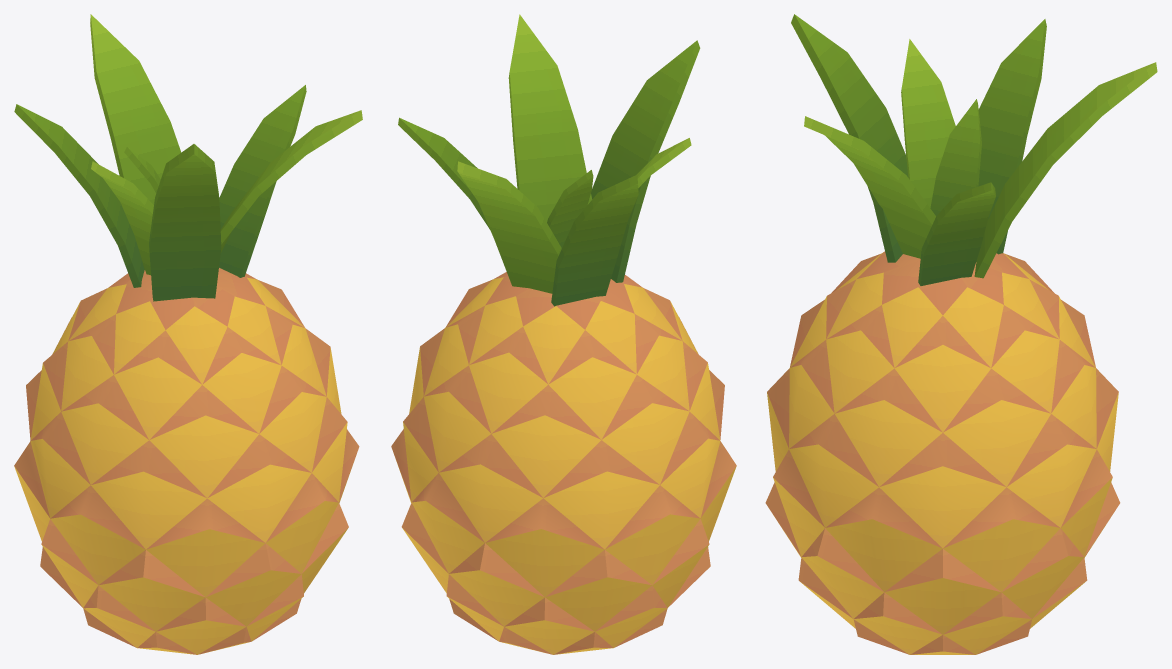
Rendered from pineaple.glb.
The picture shows the model from 3 angles, left to right: view 1: azimuth 30°, elevation 25°; view 2: azimuth 150°, elevation 25°; view 3: azimuth 270°, elevation 25°; orthographic projection. The views are drawn at different scales.
Visible parts, largest first — view 1: mesh_pineapple_01 - Default.001_0; view 2: mesh_pineapple_01 - Default.001_0; view 3: mesh_pineapple_01 - Default.001_0.
Boxes of the visible parts, x1,y1,x2,y2 form: mesh_pineapple_01 - Default.001_0: (14, 14, 362, 654); mesh_pineapple_01 - Default.001_0: (391, 14, 736, 654); mesh_pineapple_01 - Default.001_0: (765, 14, 1157, 654).
Bounding box in the file's own units: 106 × 195 × 117.
1 material, 1 textured.
